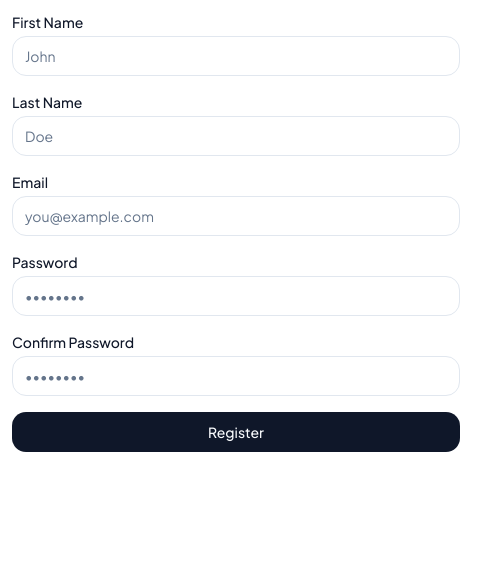
Test: RegistrationForm › should show validation errors when submitting an empty form
The image size is (481, 569).
Click the button "Register": coordinates (236, 432) [12, 412, 460, 452]
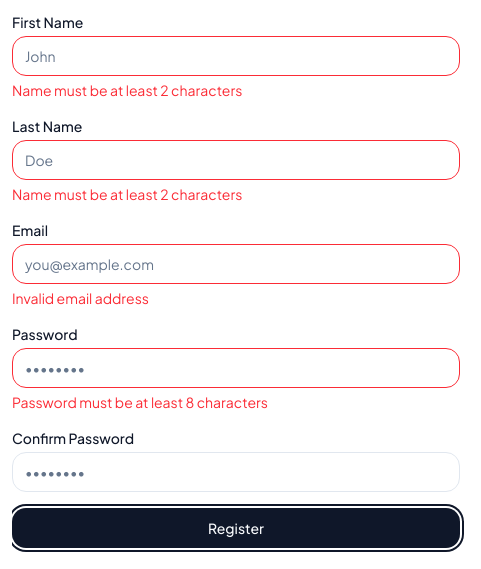
expect the text "Name must be at least 2 characters" below "First Name" is shown: met, box [12, 81, 242, 99]
